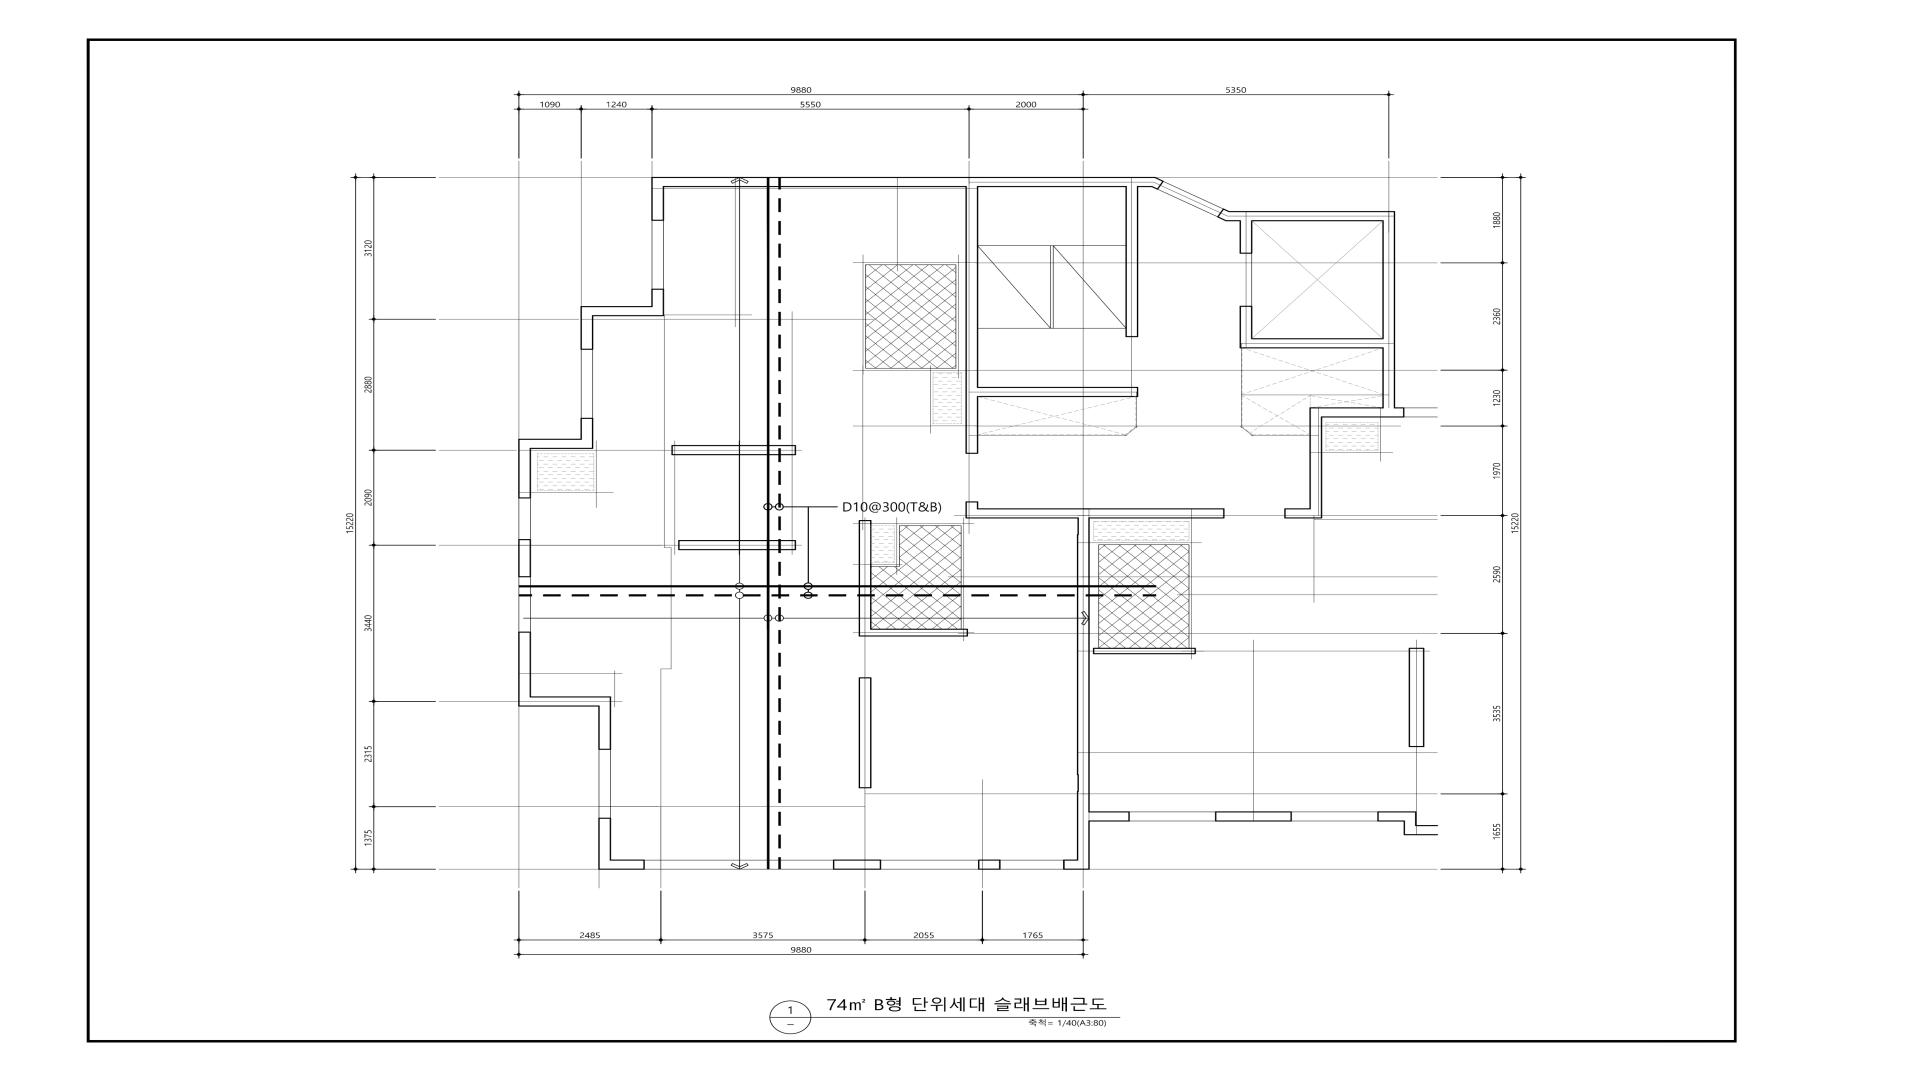wall: (664, 177, 1156, 187), (1077, 519, 1090, 860), (965, 187, 978, 454), (978, 508, 1224, 518), (1382, 221, 1395, 407), (1125, 187, 1138, 337), (1226, 211, 1395, 221), (978, 387, 1138, 397), (858, 678, 872, 788), (859, 520, 871, 637), (1253, 338, 1383, 348), (678, 540, 796, 551), (672, 445, 796, 455), (1310, 407, 1322, 509), (518, 632, 531, 707), (1322, 407, 1396, 418), (871, 629, 968, 637), (531, 696, 598, 707), (598, 697, 611, 750), (598, 818, 611, 870), (518, 449, 531, 498), (518, 439, 581, 449), (593, 306, 652, 316), (1239, 306, 1253, 348), (651, 177, 664, 221), (581, 306, 594, 350), (518, 539, 531, 577), (833, 860, 881, 870), (1239, 221, 1252, 254), (1284, 508, 1322, 518), (581, 418, 593, 449), (611, 860, 645, 870), (652, 289, 664, 316), (1063, 860, 1090, 870), (965, 501, 978, 518), (978, 860, 1000, 870), (1152, 177, 1164, 190), (1217, 209, 1229, 221)
